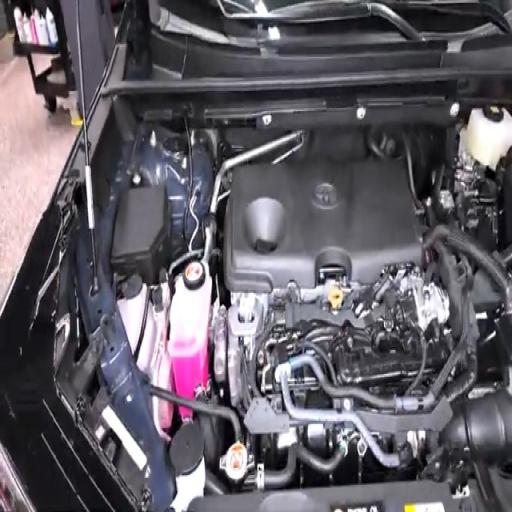hood: (93, 101, 512, 502)
windshield: (216, 0, 362, 17)
